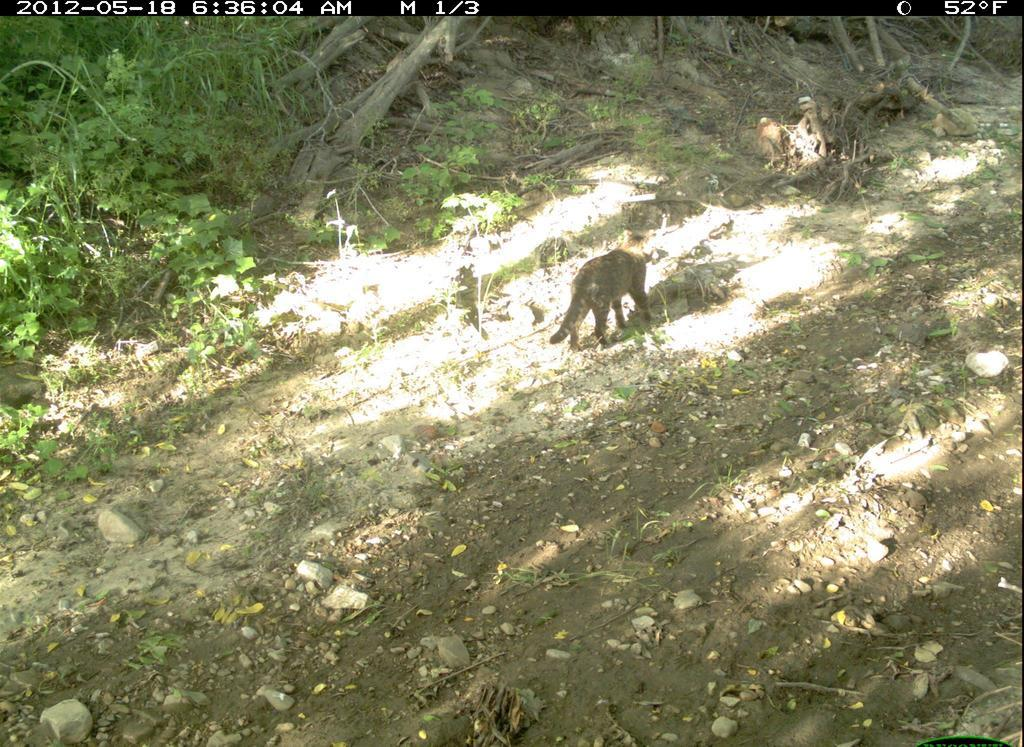cat: (547, 227, 675, 358)
